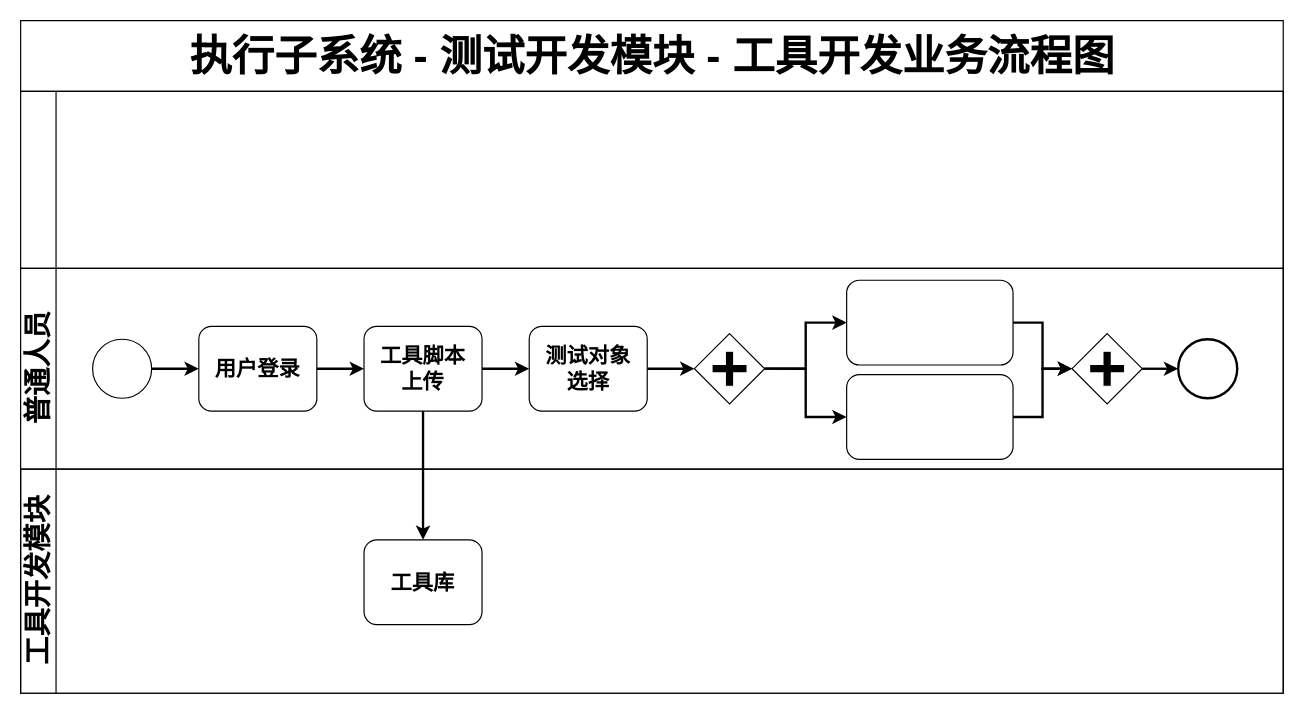
Image size: 1304x714. Some labels were removed from this diagram. Each missing label, with the centre of its shape:
工具兼容性测试: [929,416]
工具功能测试: [929,322]
系统管理员: [651,179]
